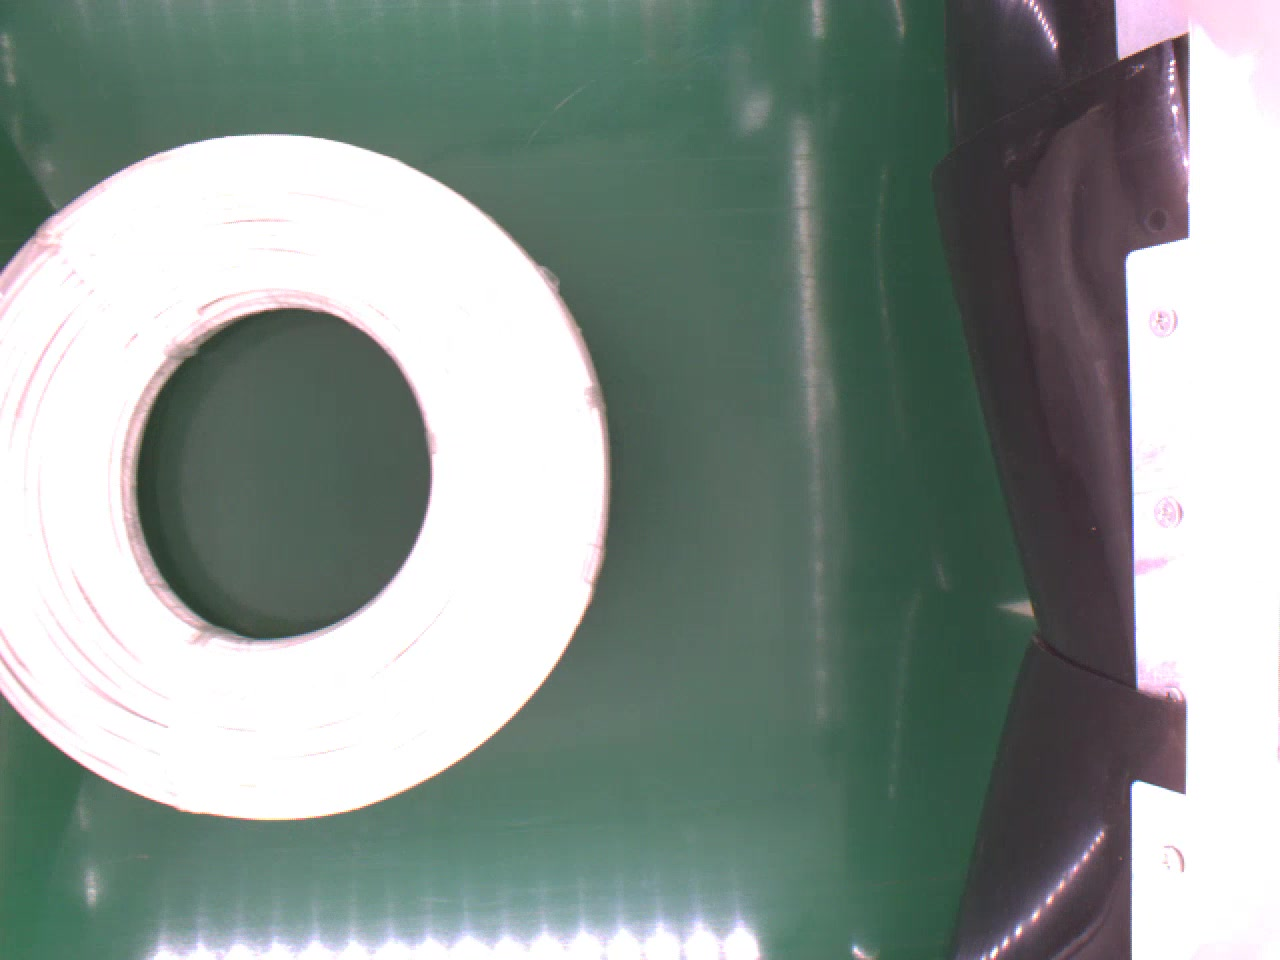white: (0, 129, 621, 824)
